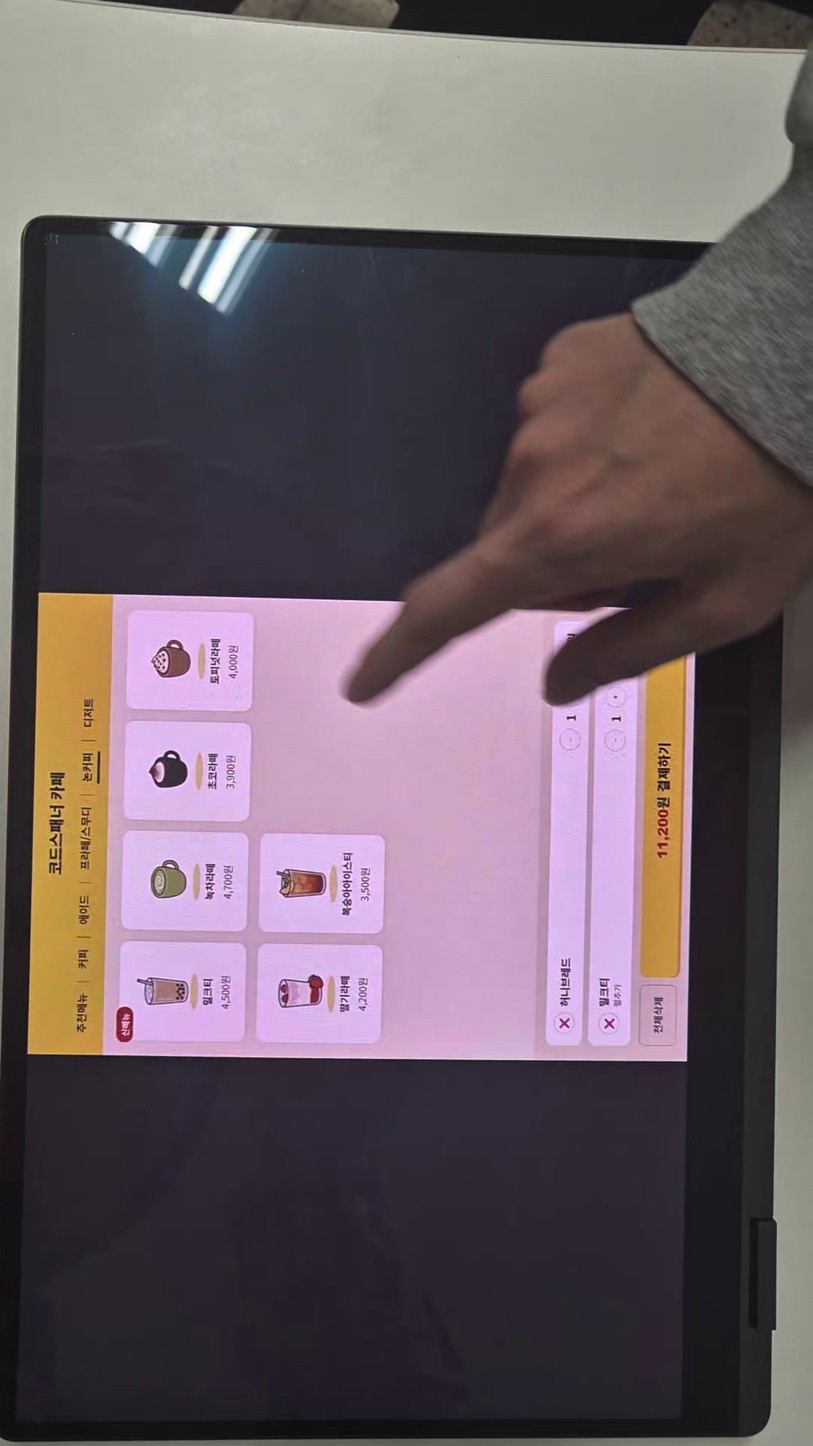action_button: (639, 621, 685, 980), (641, 984, 678, 1047)
cart_item: (592, 621, 633, 1047), (546, 620, 585, 1043)
category_tab: (74, 803, 94, 875), (74, 986, 90, 1038), (76, 749, 96, 786), (79, 693, 96, 735), (74, 892, 92, 928), (76, 944, 93, 976)
menu_back: (124, 720, 252, 825), (124, 831, 249, 933), (127, 610, 255, 709), (259, 832, 382, 935), (121, 943, 247, 1043), (260, 945, 384, 1044)
menu_name: (335, 847, 355, 919), (199, 971, 217, 1013), (205, 749, 221, 795), (203, 856, 217, 907), (337, 971, 351, 1015), (211, 633, 220, 690)
menu_price: (359, 863, 377, 905), (220, 970, 235, 1014), (225, 641, 240, 682), (223, 862, 237, 904), (358, 975, 370, 1017), (226, 751, 236, 794)
